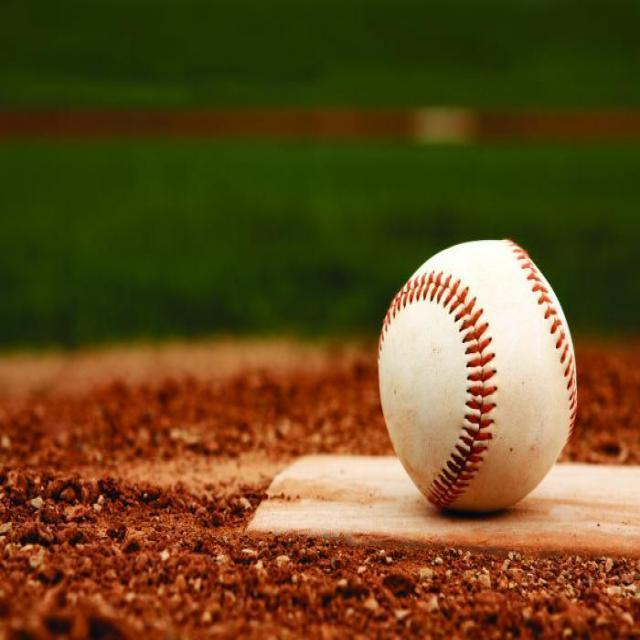ball: (376, 237, 580, 518)
